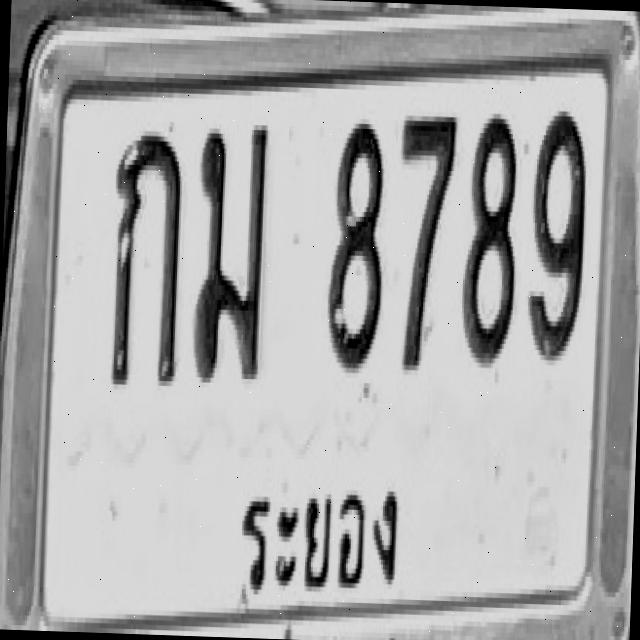10GorGai: (108, 128, 184, 388)
42MorMa: (192, 118, 268, 384)
7: (393, 108, 457, 374)
8: (324, 115, 387, 371), (459, 110, 520, 366)
9: (526, 110, 587, 360)
Rayong: (232, 459, 406, 617)
